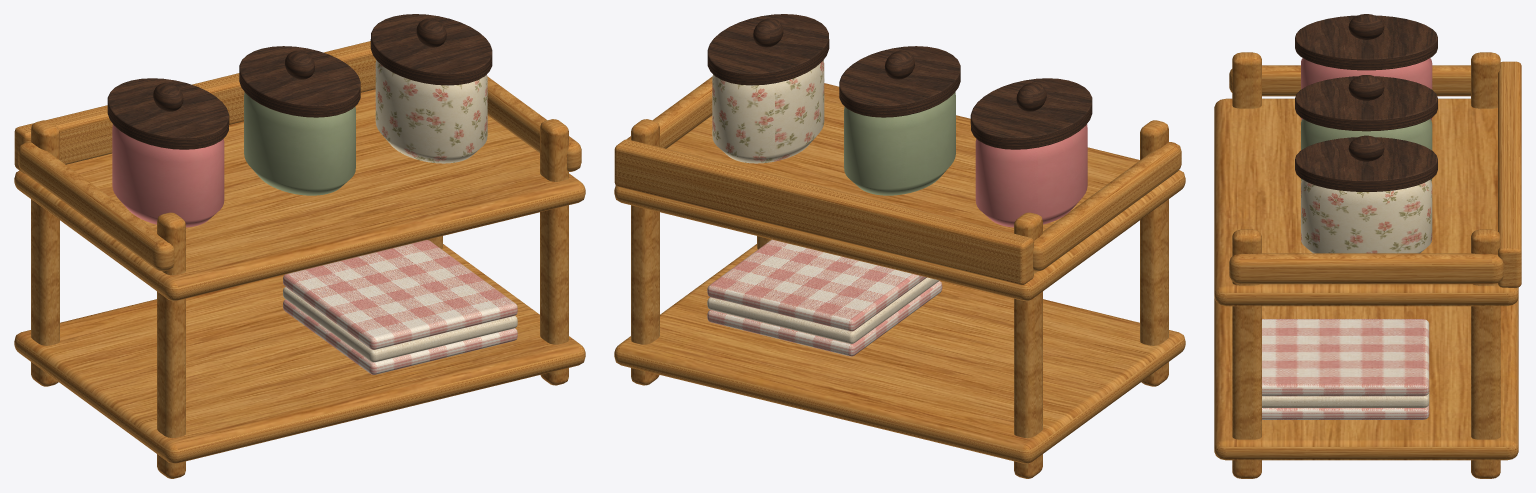
File: SM_InteriorAdditions_PantryShelf.fbx
3 views of the same model, side by side, from view 1: azimuth 30°, elevation 25°; view 2: azimuth 150°, elevation 25°; view 3: azimuth 270°, elevation 25° (orthographic). The views are drawn at different scales.
Visible parts, largest first — view 1: SM_InteriorAdditions_PantryShelf; view 2: SM_InteriorAdditions_PantryShelf; view 3: SM_InteriorAdditions_PantryShelf.
Boxes of the visible parts, bbox=[...] form: SM_InteriorAdditions_PantryShelf: bbox=[14, 14, 585, 478]; SM_InteriorAdditions_PantryShelf: bbox=[614, 14, 1185, 478]; SM_InteriorAdditions_PantryShelf: bbox=[1214, 14, 1521, 478].
Size of what is drawn, in the model's own units: 121 by 79.93 by 89.55.
